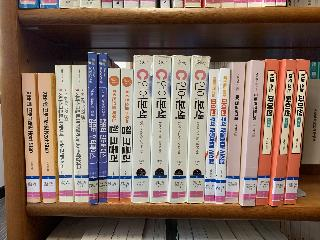book-spine: (271, 59, 297, 207), (284, 59, 310, 205), (255, 59, 280, 206), (186, 55, 210, 204), (243, 60, 265, 207), (169, 55, 190, 204), (131, 55, 152, 203), (150, 55, 171, 203), (225, 62, 246, 204), (37, 73, 56, 203), (72, 65, 89, 203), (22, 73, 40, 203), (56, 65, 73, 202), (215, 68, 230, 204), (205, 69, 219, 203), (107, 68, 120, 203), (120, 68, 133, 203), (88, 52, 98, 204), (98, 53, 107, 203)
